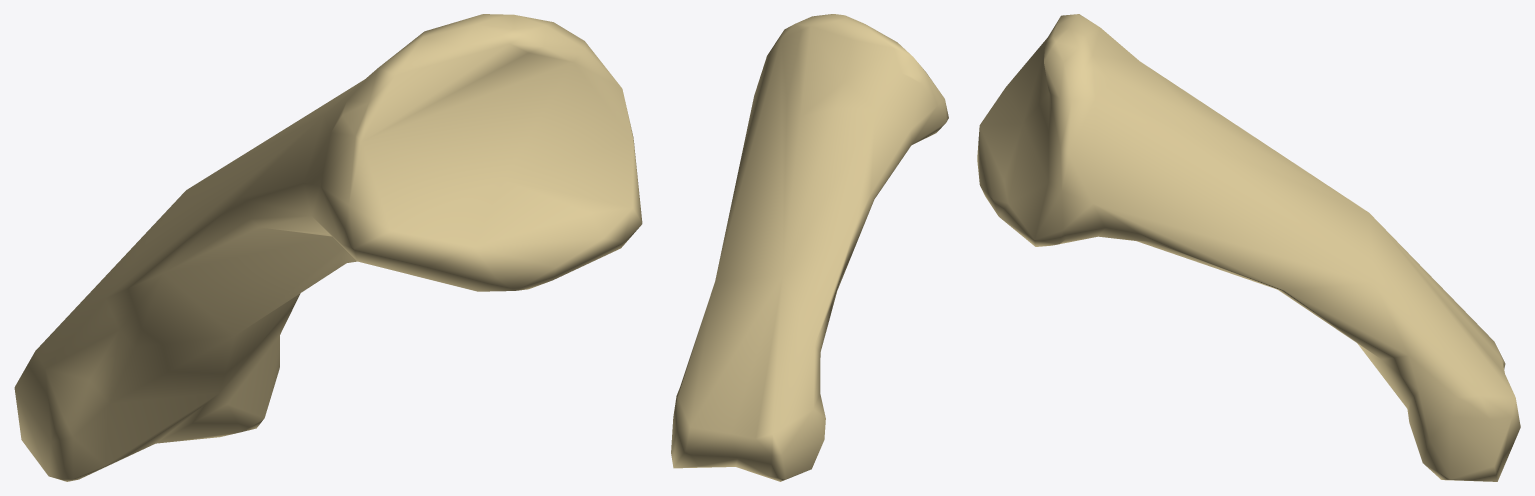
3 views of the same model, side by side, from view 1: azimuth 30°, elevation 25°; view 2: azimuth 150°, elevation 25°; view 3: azimuth 270°, elevation 25° (orthographic). The views are drawn at different scales.
Parts seen in each view (by area): view 1: 右侧第三指中节指骨; view 2: 右侧第三指中节指骨; view 3: 右侧第三指中节指骨.
Boxes of the visible parts, <box> form: 右侧第三指中节指骨: <box>14,14,642,481</box>; 右侧第三指中节指骨: <box>671,14,948,481</box>; 右侧第三指中节指骨: <box>977,14,1520,481</box>.
Size of the model in its own units: 0.0209 by 0.0351 by 0.0387.
